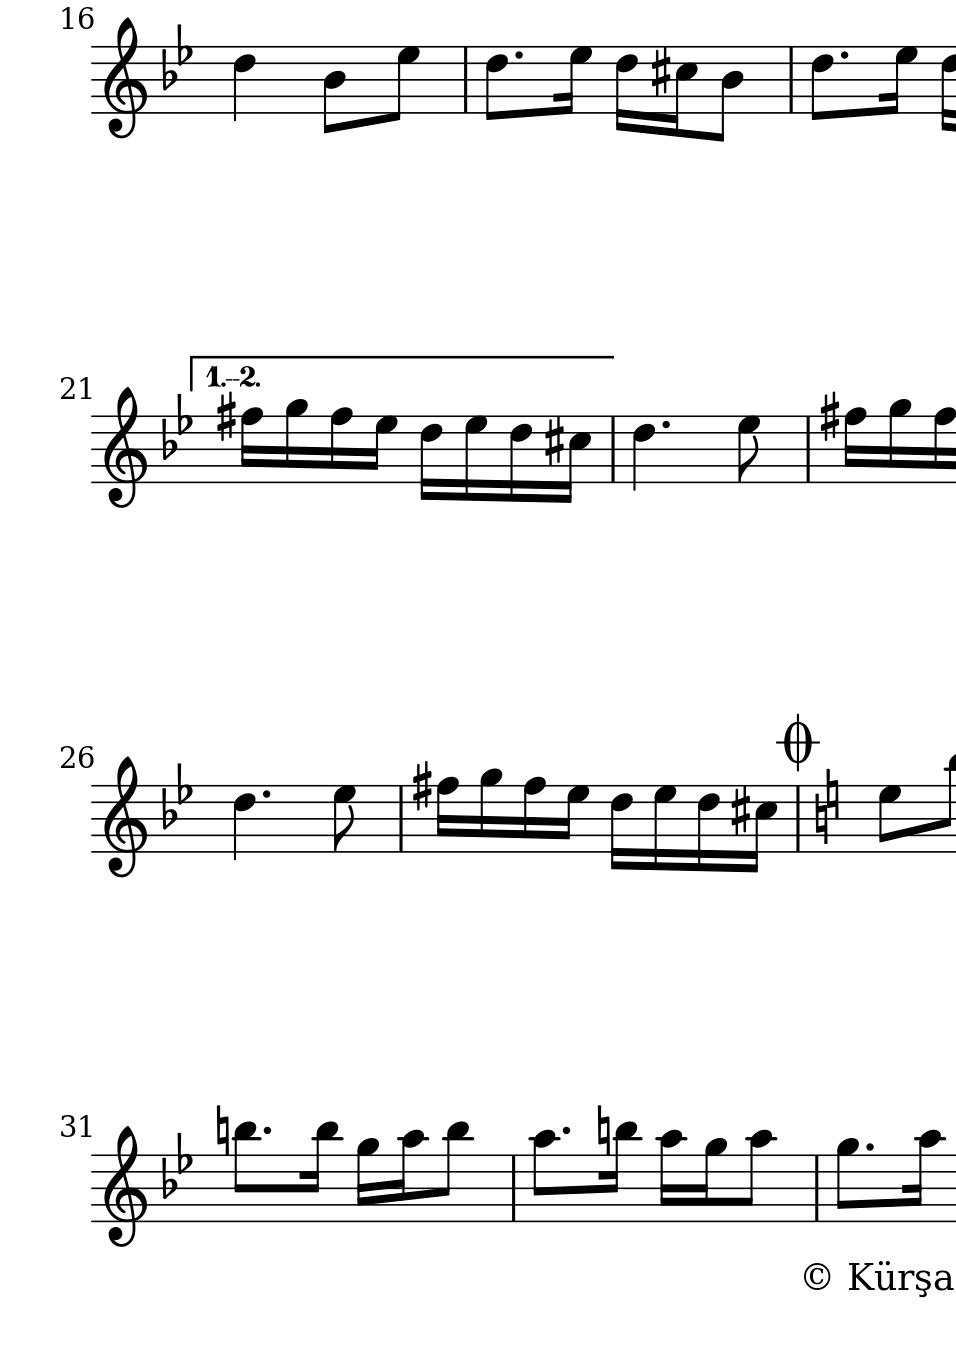1: (61, 4, 74, 33), (78, 375, 92, 402), (78, 1113, 92, 1140)
16_10: (904, 1128, 942, 1224), (393, 1129, 426, 1225), (656, 1128, 685, 1224)
16_11: (302, 1119, 340, 1224), (602, 1120, 638, 1225)
16_5: (560, 414, 593, 505), (746, 784, 778, 876), (666, 46, 697, 140)
16_6: (613, 43, 639, 134), (508, 413, 533, 503), (608, 783, 633, 871), (418, 414, 443, 501), (695, 783, 719, 872)
16_7: (880, 44, 918, 117), (554, 46, 592, 116), (558, 783, 590, 855), (366, 413, 398, 484), (464, 412, 488, 504), (651, 782, 676, 873)
16_8: (434, 776, 459, 854), (520, 775, 545, 855), (327, 405, 352, 485), (238, 405, 263, 484), (841, 407, 866, 485), (931, 405, 955, 485)
16_9: (697, 1137, 728, 1224), (476, 767, 503, 855), (885, 397, 912, 485), (282, 396, 308, 486), (355, 1137, 379, 1223)
2: (58, 744, 77, 771), (58, 375, 76, 402)
3: (58, 1112, 76, 1139)
4_6: (231, 44, 258, 122), (231, 783, 257, 861), (631, 414, 656, 492)
6: (74, 3, 96, 33), (74, 743, 95, 771)
8_10: (737, 1128, 774, 1224), (530, 1128, 558, 1224)
8_11: (438, 1120, 470, 1224), (232, 1118, 258, 1224)
8_4: (711, 44, 744, 143), (321, 44, 346, 136)
8_6: (483, 44, 509, 123), (809, 44, 834, 123)
8_7: (384, 44, 421, 124), (736, 414, 761, 484), (877, 783, 901, 857), (332, 784, 357, 853)
8_9: (834, 1137, 861, 1225)
B_F: (160, 760, 195, 832), (160, 1130, 195, 1200), (160, 22, 195, 91), (160, 392, 195, 461)
Coda: (777, 712, 818, 771)
Gclef: (101, 385, 147, 510), (101, 16, 146, 139), (102, 1124, 147, 1248), (102, 754, 145, 878)
Natural: (594, 1104, 610, 1158), (825, 769, 839, 823), (813, 797, 827, 851), (215, 1104, 229, 1158)
Sharp: (649, 46, 673, 99), (728, 785, 752, 838), (542, 415, 565, 469), (410, 760, 432, 812), (818, 390, 839, 442), (215, 391, 235, 442)
Single_barline: (808, 1156, 826, 1221), (457, 47, 474, 113), (604, 417, 621, 482), (505, 1156, 521, 1221), (783, 47, 799, 113), (800, 417, 815, 482), (393, 786, 408, 851), (790, 786, 805, 851)
dot: (837, 48, 852, 63), (862, 1141, 877, 1155), (512, 48, 526, 63), (659, 418, 673, 432), (559, 1125, 573, 1139), (259, 788, 272, 801), (260, 1125, 273, 1138)
